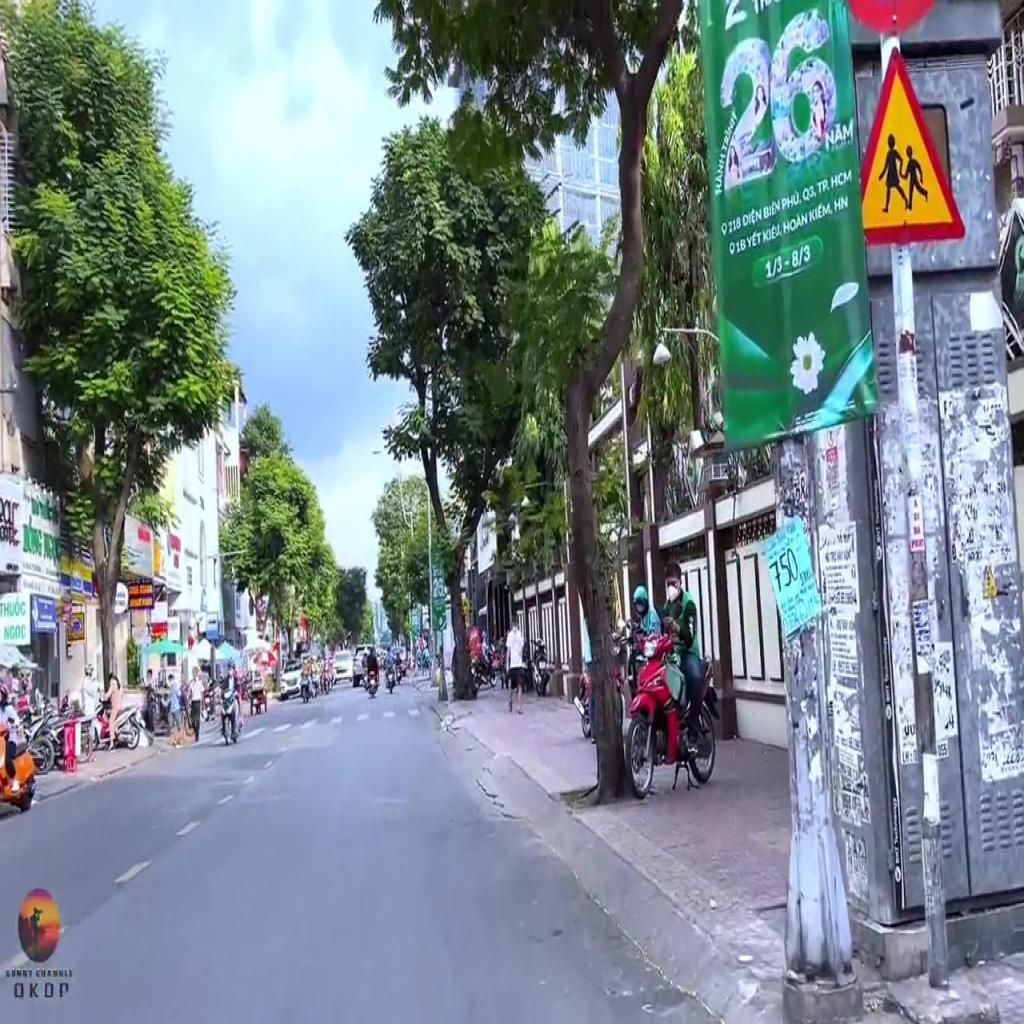chu_y_tre_em: (839, 41, 964, 249)
